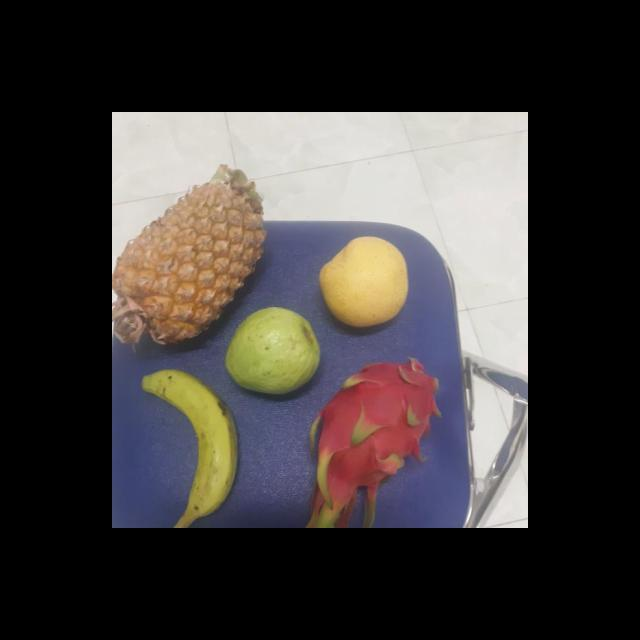banana: (143, 374, 243, 526)
guava: (223, 306, 323, 399), (320, 239, 412, 328)
pineapple: (113, 176, 270, 350)
pitaya: (306, 362, 446, 510)
